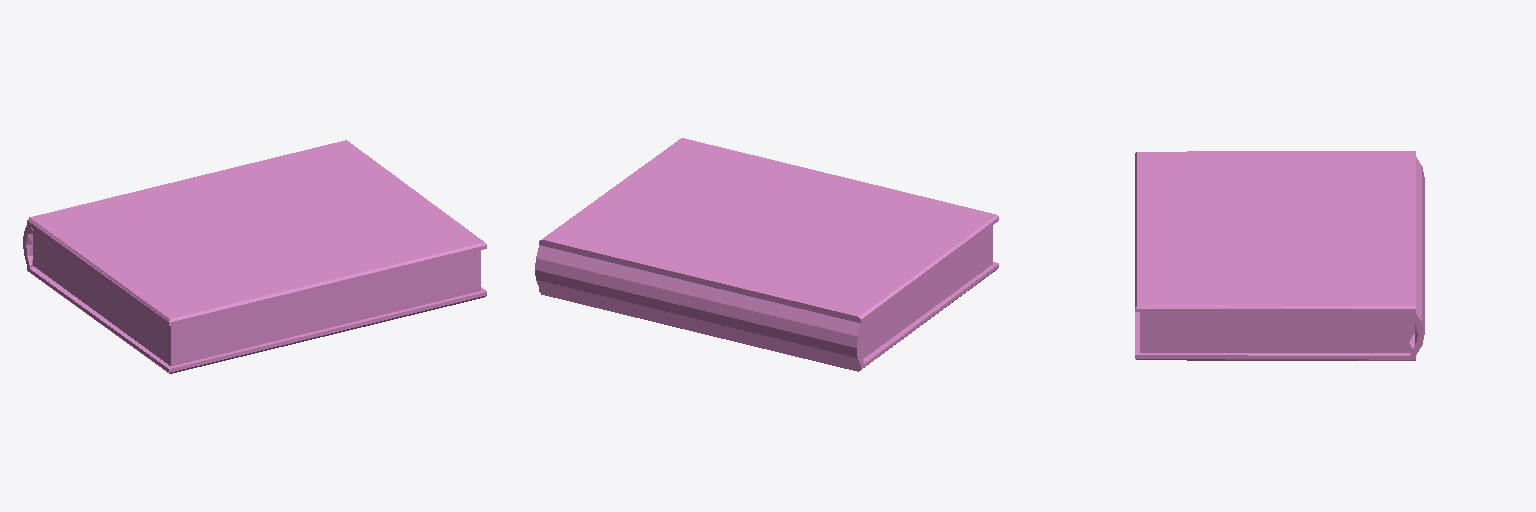
Rendered from Book.obj.
The picture shows the model from 3 angles: view 1: azimuth 30°, elevation 25°; view 2: azimuth 150°, elevation 25°; view 3: azimuth 270°, elevation 25°; orthographic projection.
Visible parts, largest first — view 1: Box001; view 2: Box001; view 3: Box001.
Boxes of the visible parts, <box> form: Box001: <box>23,140,486,373</box>; Box001: <box>535,138,998,371</box>; Box001: <box>1135,151,1424,360</box>.
Size of the model in its own units: 17.7 by 2.9 by 13.79.